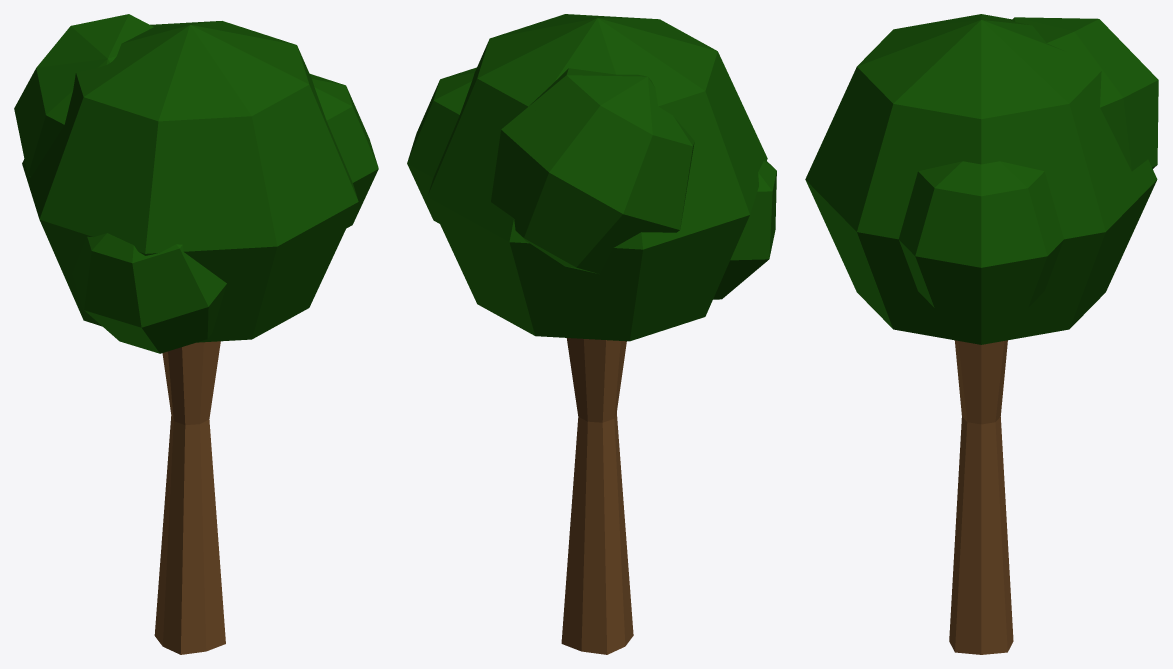
Rendered from tree.fbx.
The picture shows the model from 3 angles, left to right: view 1: azimuth 30°, elevation 25°; view 2: azimuth 150°, elevation 25°; view 3: azimuth 270°, elevation 25°; orthographic projection.
Parts seen in each view (by area): view 1: Sphere; view 2: Sphere; view 3: Sphere.
Part boxes in pixels (left/top/right/bottom): Sphere: left=14, top=14, right=378, bottom=654; Sphere: left=407, top=14, right=776, bottom=654; Sphere: left=805, top=14, right=1158, bottom=654.
Bounding box in the file's own units: 145 × 258 × 133.
